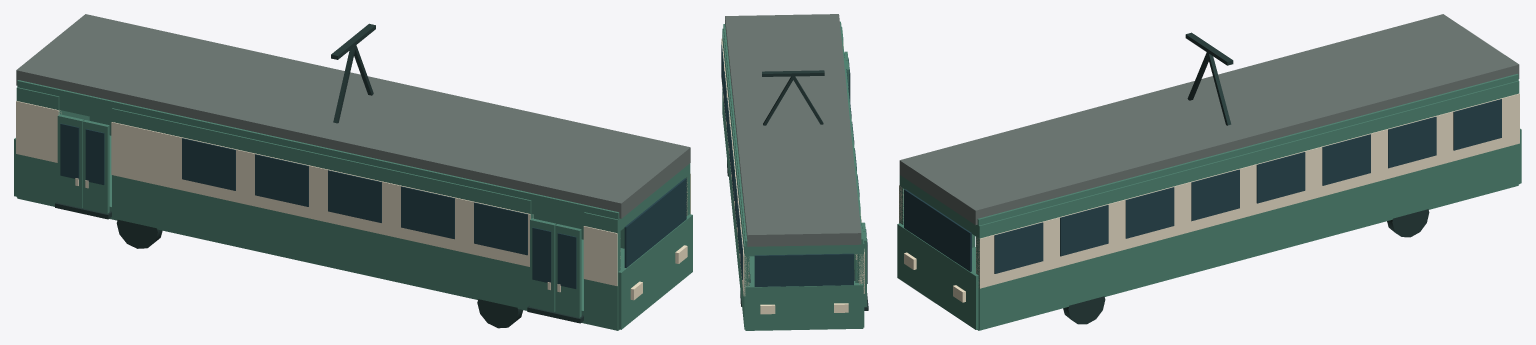
Rendered from tram-classic.glb.
The picture shows the model from 3 angles, left to right: view 1: azimuth 30°, elevation 25°; view 2: azimuth 150°, elevation 25°; view 3: azimuth 270°, elevation 25°; orthographic projection. The views are drawn at different scales.
Visible parts, largest first — view 1: Классический, Правая раздвижная дверь (×4); view 2: Классический, Правая раздвижная дверь; view 3: Классический.
Boxes of the visible parts, x1,y1,x2,y2 form: Классический: [14, 14, 692, 330]; Правая раздвижная дверь (×4): [57, 114, 581, 317]; Классический: [721, 14, 868, 330]; Правая раздвижная дверь: [863, 232, 867, 306]; Классический: [897, 14, 1521, 330].
Size of the model in its own units: 10.3 by 5 by 13.66.
